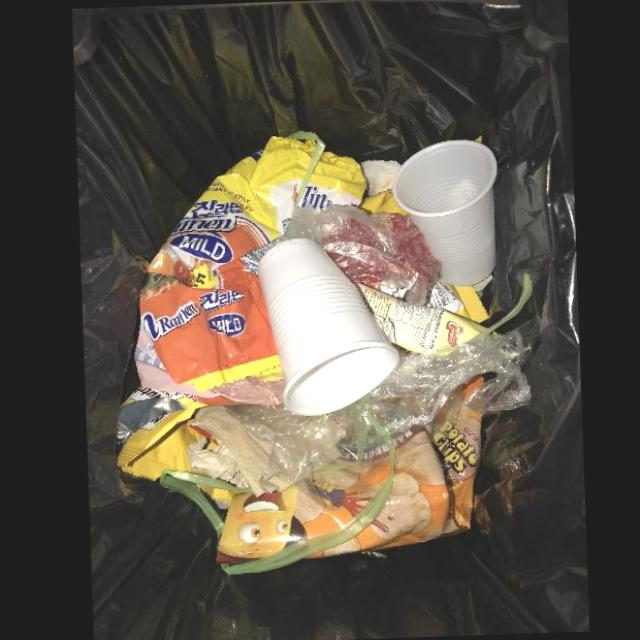bao_bi_thuc_pham: (134, 137, 367, 396), (217, 375, 484, 562), (116, 386, 214, 481)
giay: (187, 406, 295, 497)
hop_nhua: (257, 238, 399, 415), (392, 140, 497, 287)
